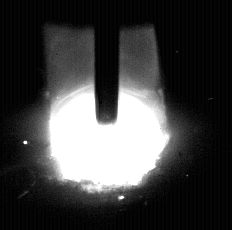arame: (95, 0, 121, 125)
poca: (50, 0, 170, 230)
